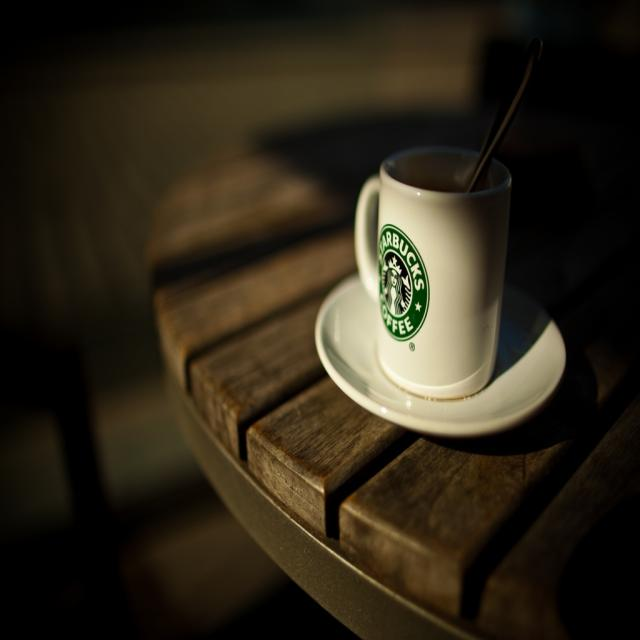starbucks: (377, 224, 431, 342)
